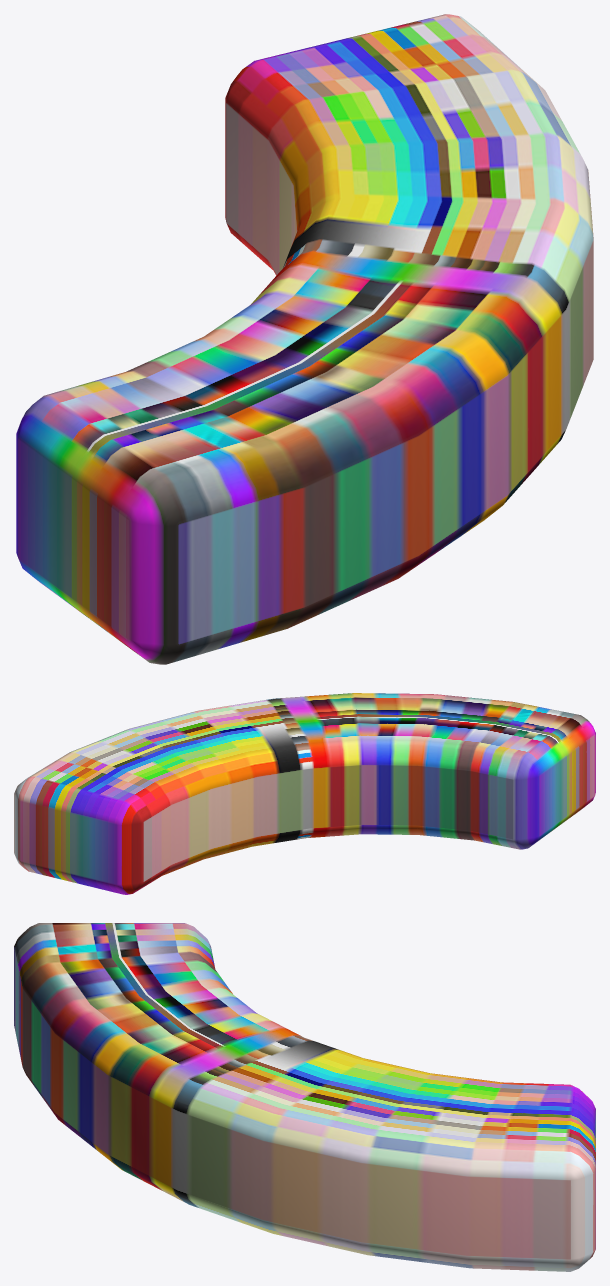
Rendered from TightWayCorner.fbx.
The picture shows the model from 3 angles, top to bottom: view 1: azimuth 30°, elevation 25°; view 2: azimuth 150°, elevation 25°; view 3: azimuth 270°, elevation 25°; orthographic projection. The views are drawn at different scales.
Parts seen in each view (by area): view 1: Circle.001; view 2: Circle.001; view 3: Circle.001.
Part boxes in pixels (x1=…): Circle.001: x1=16, y1=14, x2=593, y2=664; Circle.001: x1=14, y1=693, x2=595, y2=894; Circle.001: x1=14, y1=923, x2=595, y2=1271.
Bounding box in the file's own units: 2.95 × 0.702 × 2.97.
